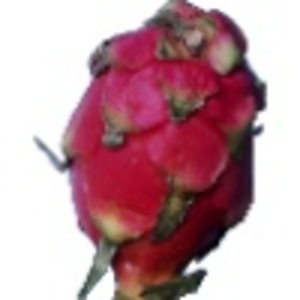pitaia: (35, 1, 267, 300)
